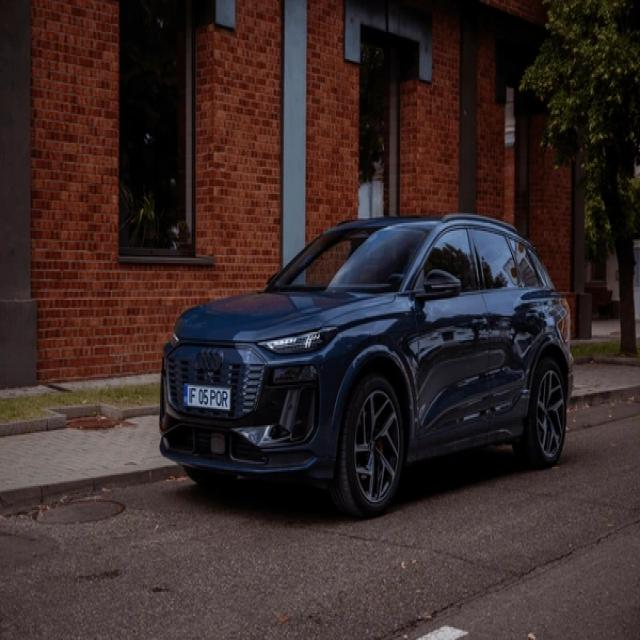audi: (193, 347, 228, 373)
